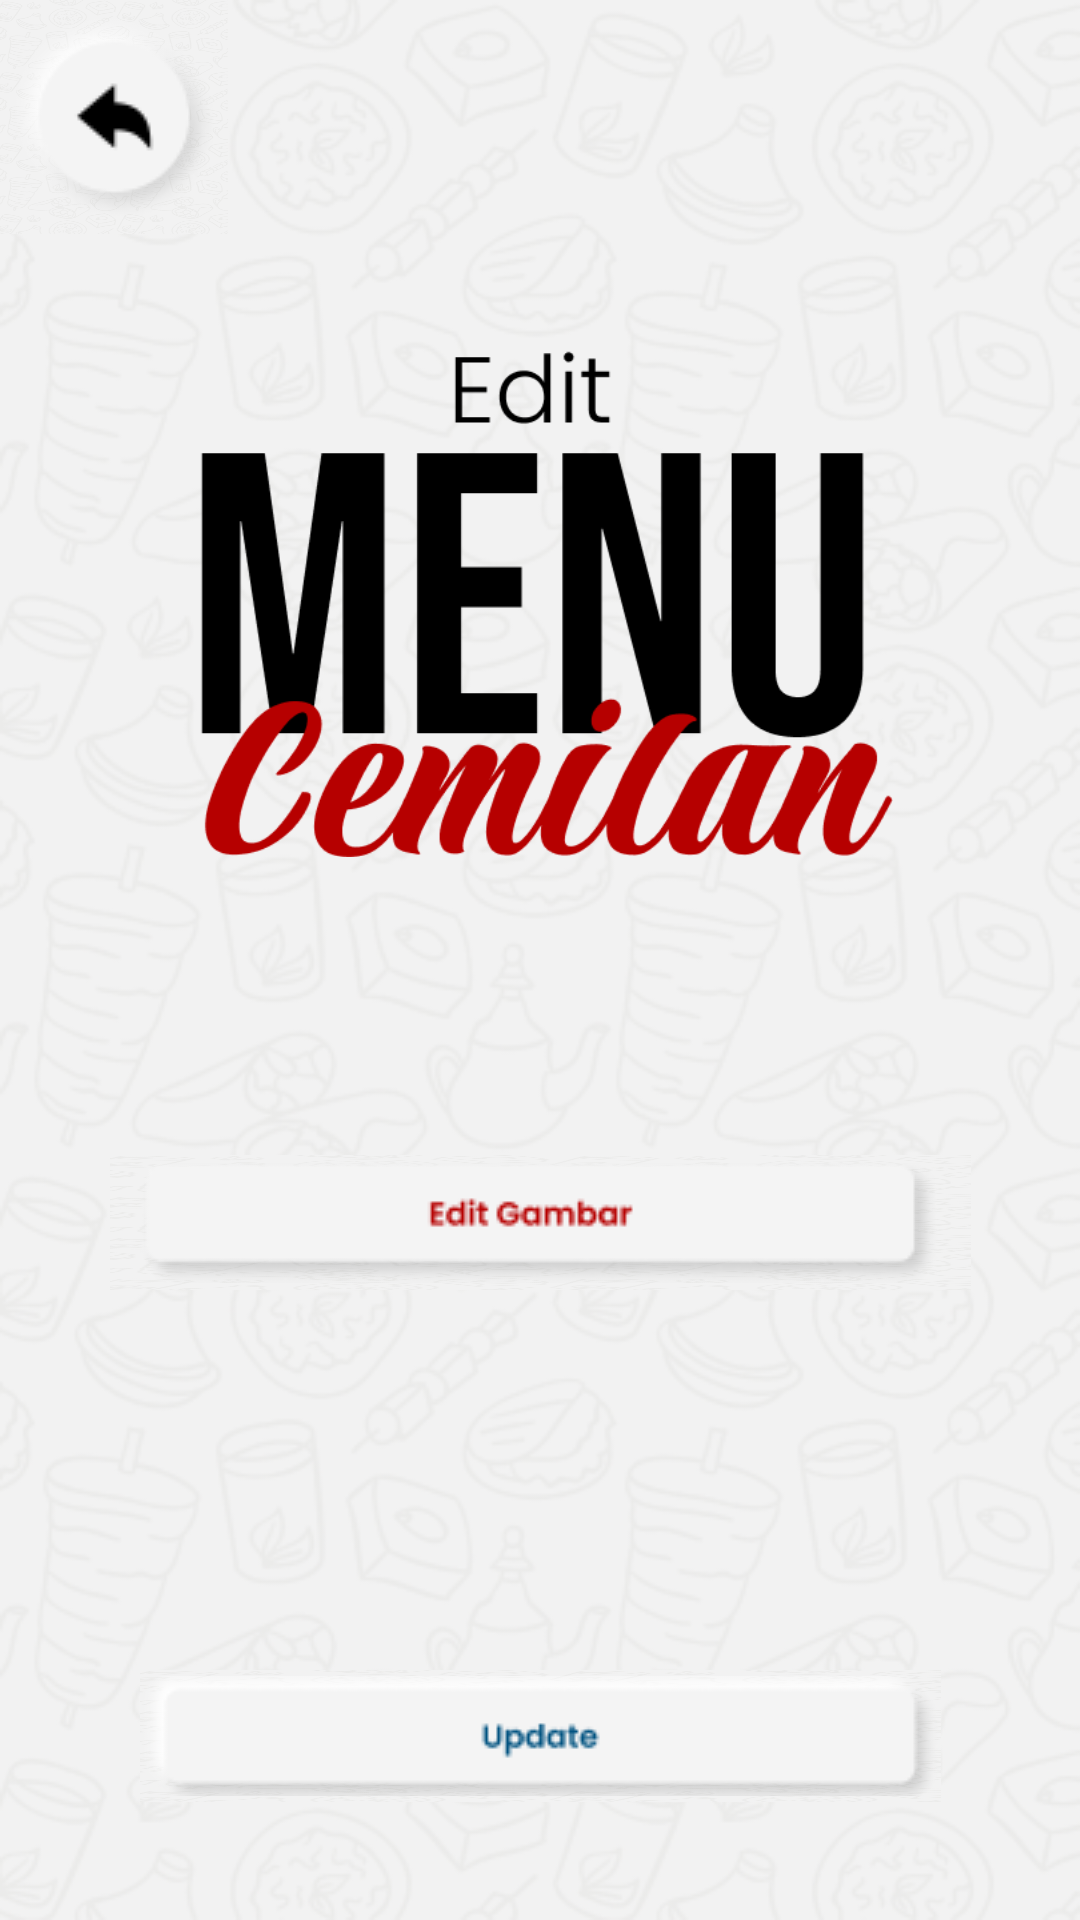

Where to tap for icons on this 1080px x 1920px app screen, as point (x, y):
buttonkembali: point (135, 140)
